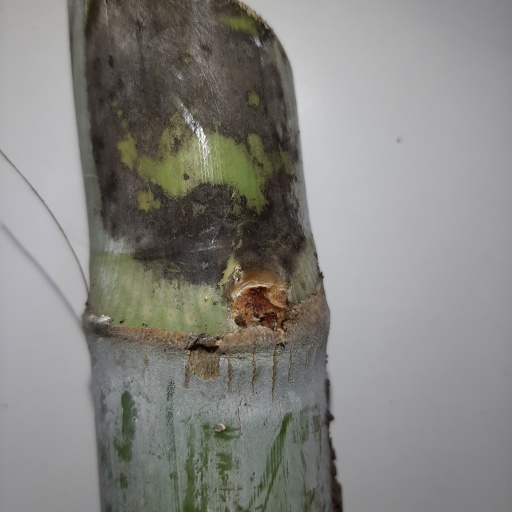Damage_Bud: (229, 265, 287, 325)
